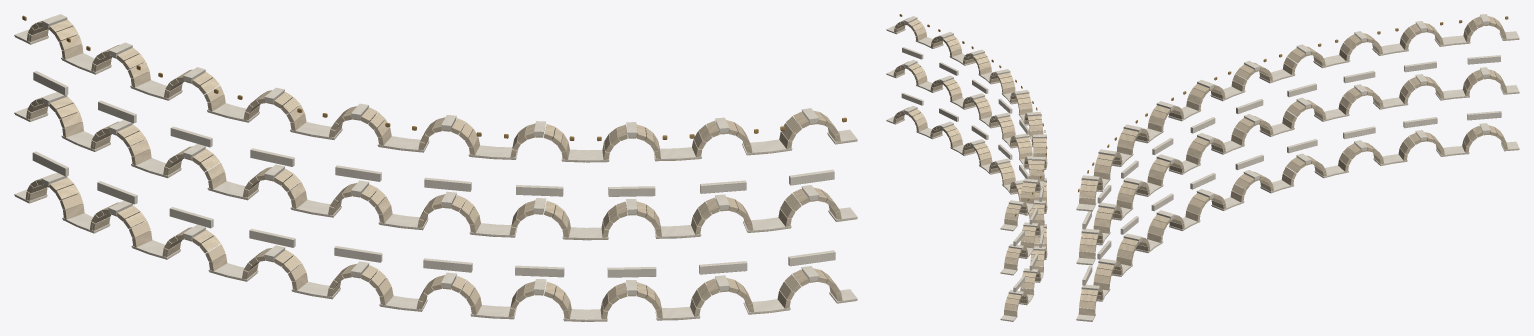
File: COL_ExteriorArcade_Q2.obj
The picture shows the model from 3 angles, left to right: view 1: azimuth 30°, elevation 25°; view 2: azimuth 150°, elevation 25°; view 3: azimuth 270°, elevation 25°; orthographic projection. The views are drawn at different scales.
Visible parts, largest first — view 1: COL_ExteriorArcade_Q2; view 2: COL_ExteriorArcade_Q2; view 3: COL_ExteriorArcade_Q2.
Boxes of the visible parts, box(x1,y1,x2,y2) form: COL_ExteriorArcade_Q2: box(14, 14, 857, 321); COL_ExteriorArcade_Q2: box(886, 14, 1047, 321); COL_ExteriorArcade_Q2: box(1076, 14, 1519, 321).
Size of the model in its own units: 110 by 37.63 by 115.
3 materials, 3 textured.
